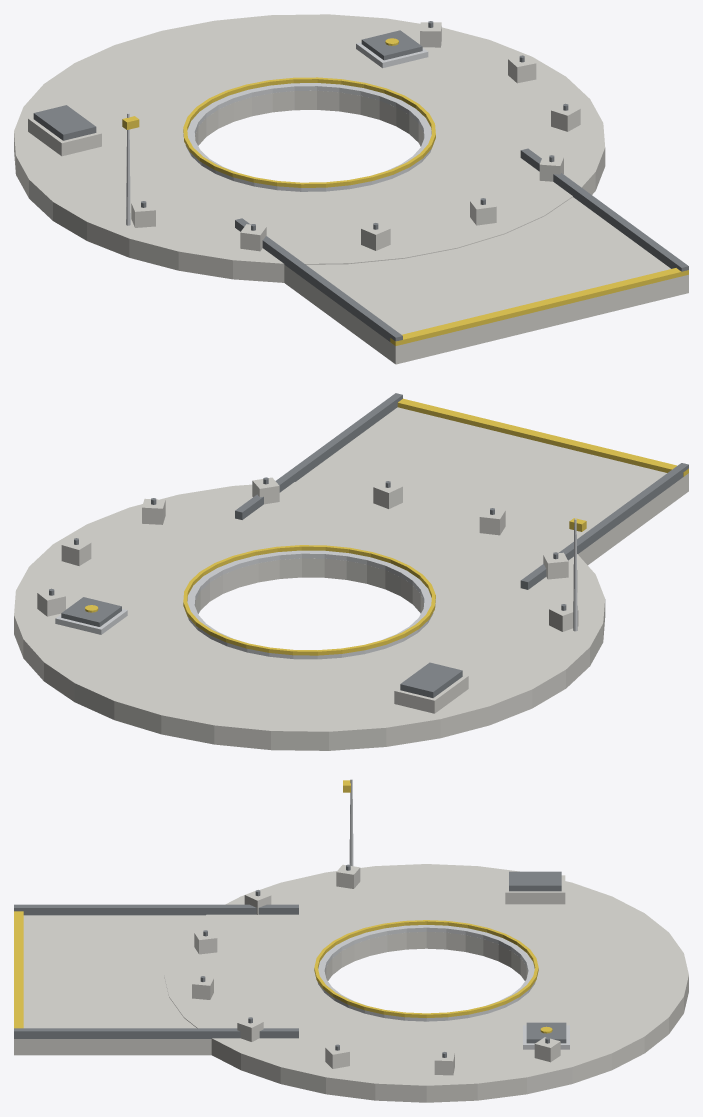
Rendered from cold-war-missile-silo-and-command-bunker-silo-headwork-51ff3752__15654.glb.
The picture shows the model from 3 angles, top to bottom: view 1: azimuth 30°, elevation 25°; view 2: azimuth 150°, elevation 25°; view 3: azimuth 270°, elevation 25°; orthographic projection. The views are drawn at different scales.
Visible parts, largest first — view 1: silo-headworks-collar, access-hatch; view 2: silo-headworks-collar, access-hatch; view 3: silo-headworks-collar, access-hatch.
Boxes of the visible parts, box(x1,y1,x2,y2) form: silo-headworks-collar: box(14, 14, 688, 364); access-hatch: box(361, 30, 422, 60); silo-headworks-collar: box(14, 393, 688, 750); access-hatch: box(61, 597, 121, 626); silo-headworks-collar: box(14, 779, 688, 1102); access-hatch: box(526, 1022, 566, 1043).
Size of the model in its own units: 14 by 3.4 by 18.
